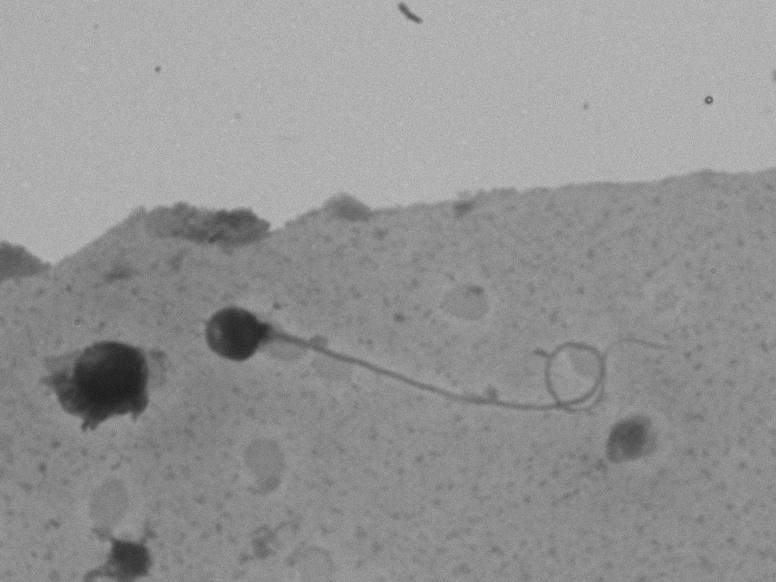Abnormal: (188, 265, 652, 451)
